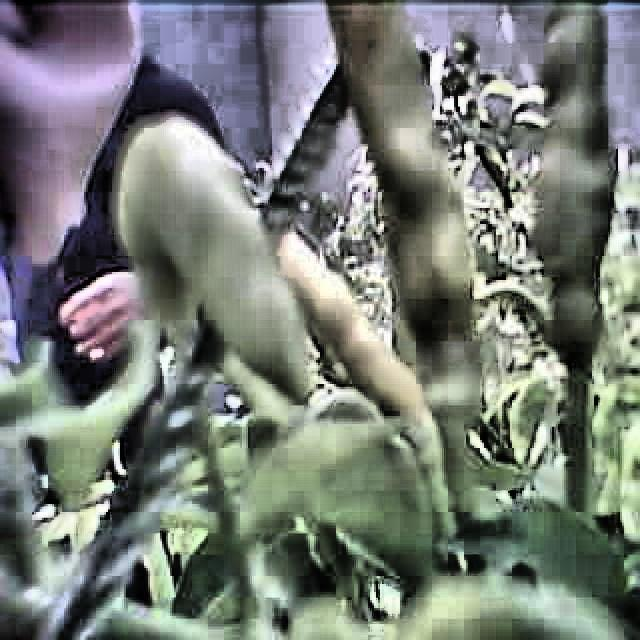Cabai: (325, 0, 499, 392), (120, 123, 293, 399), (545, 0, 630, 396)
